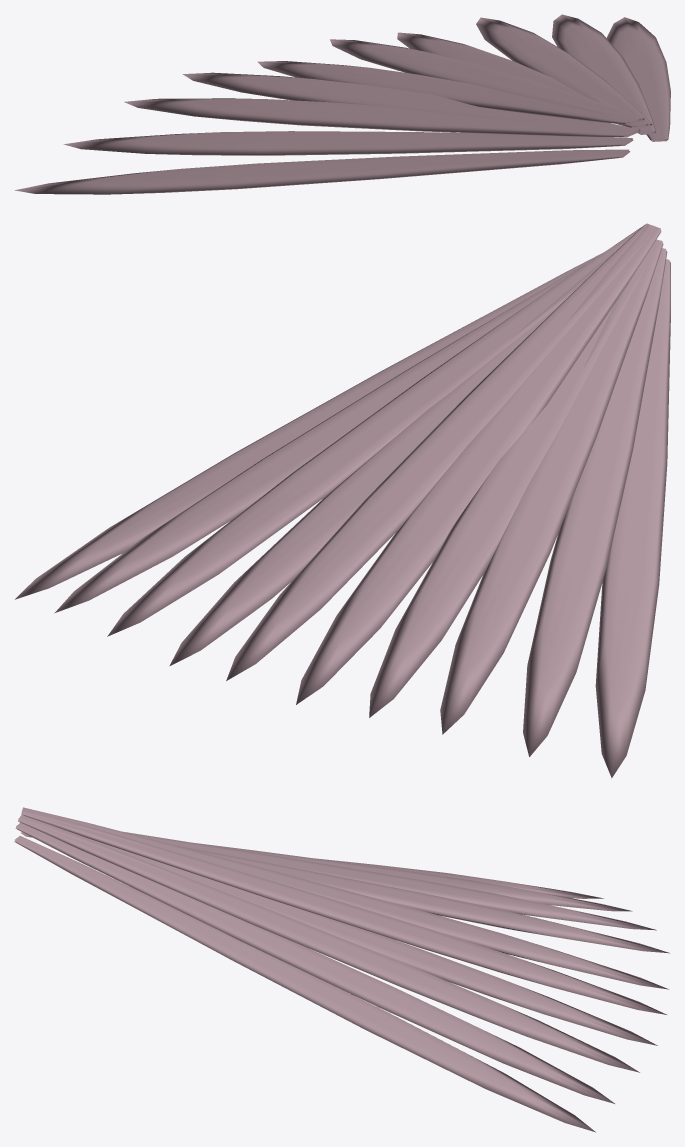
Rendered from cola.OBJ.
3 renders of one model, top to bottom at view 1: azimuth 30°, elevation 25°; view 2: azimuth 150°, elevation 25°; view 3: azimuth 270°, elevation 25°, orthographic. The views are drawn at different scales.
Visible parts, largest first — view 1: polySurface959; view 2: polySurface959; view 3: polySurface959.
Boxes of the visible parts, x1,y1,x2,y2 form: polySurface959: (15,14,670,194); polySurface959: (15,223,670,778); polySurface959: (14,807,669,1132).
Bounding box in the file's own units: 0.6292 × 0.2408 × 0.6741.
1 material, 1 textured.
